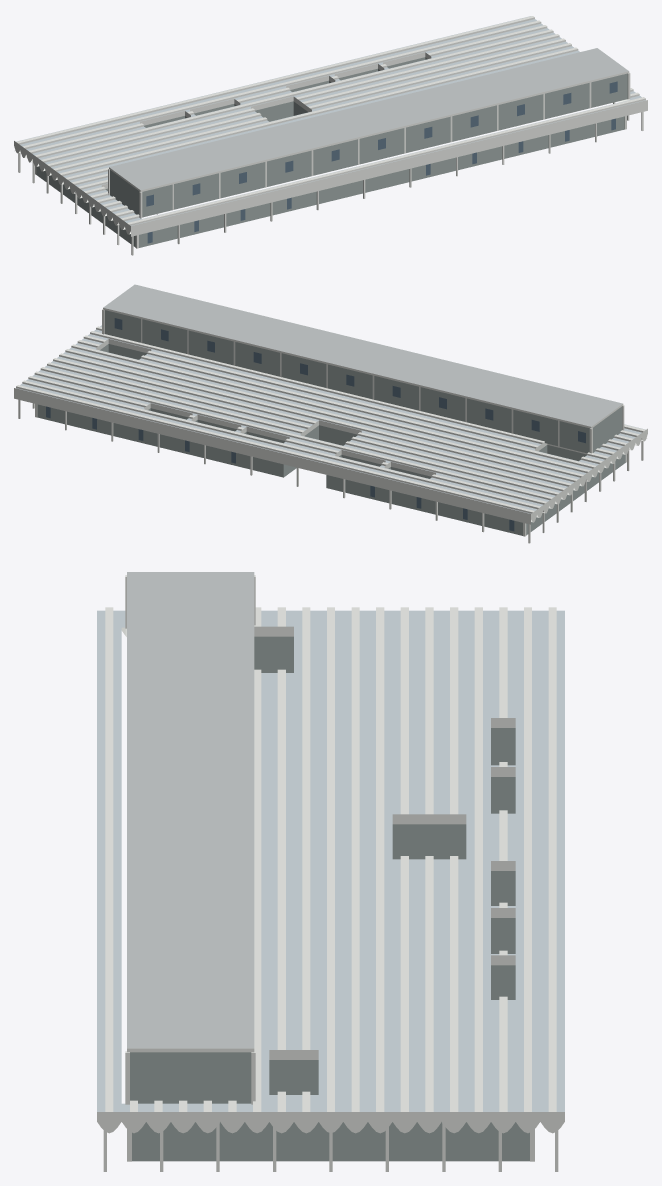
The model's file is hou-menil-collection.glb.
3 views of the same model, one above another, from view 1: azimuth 30°, elevation 25°; view 2: azimuth 150°, elevation 25°; view 3: azimuth 270°, elevation 25° (orthographic). The views are drawn at different scales.
Visible parts, largest first — view 1: The Menil Collection; view 2: The Menil Collection; view 3: The Menil Collection.
Part boxes in pixels (x1,y1,x2,y2): The Menil Collection: (14,16,647,255); The Menil Collection: (14,284,647,543); The Menil Collection: (97,572,564,1171).
Size of the model in its own units: 131 by 13.9 by 51.3.
